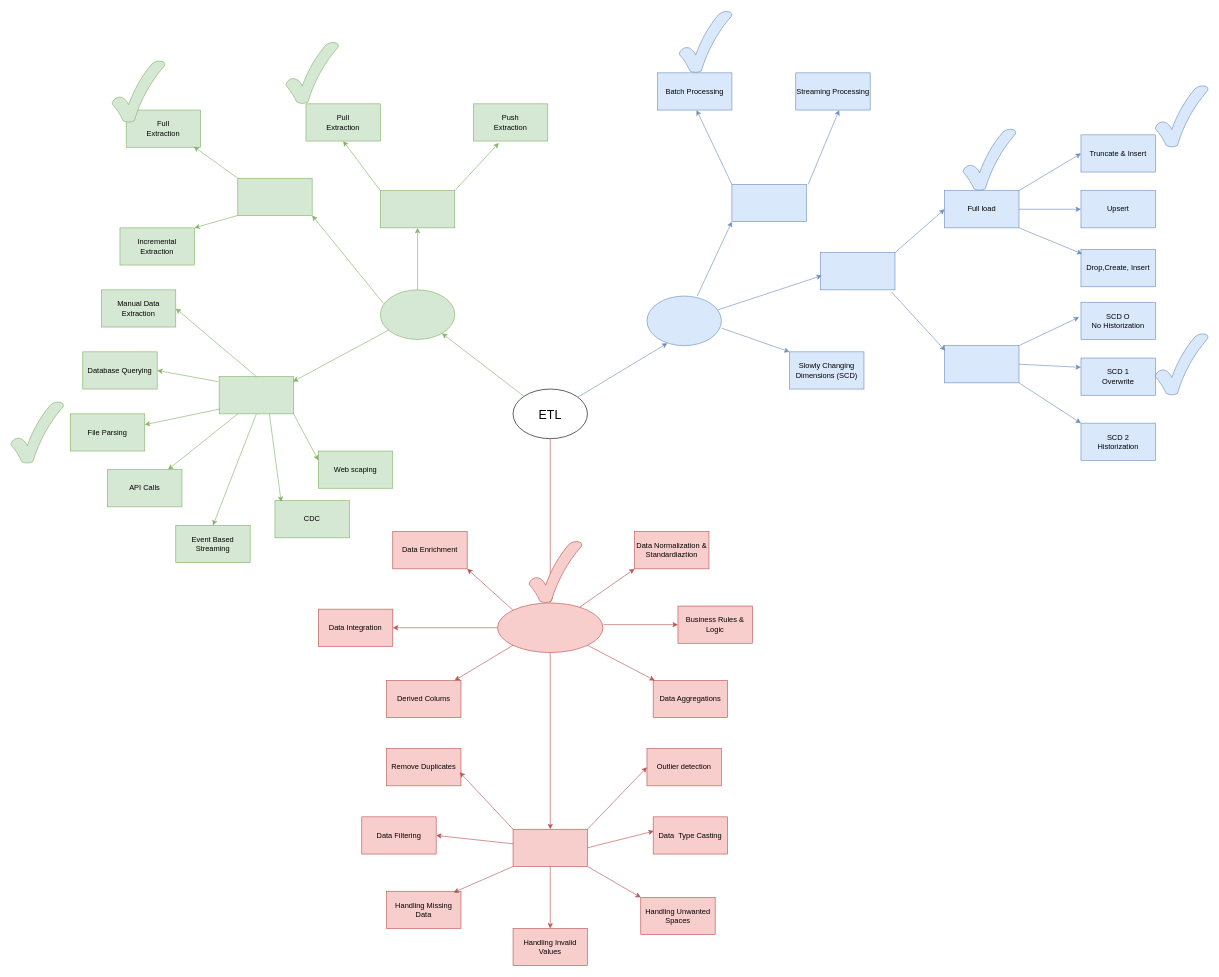
This 1219x977 diagram has some shape labels left out. The centre of each missing label's shape, as x and y in pixels:
"Data Cleansing" belongs at point 549,847.
"Extraction" belongs at point 417,314.
"Extraction methods" belongs at point 417,209.
"Extraction Techniques" belongs at point 256,395.
"Extraction Types" belongs at point 274,196.
"Load" belongs at point 683,320.
"Load Methods" belongs at point 857,271.
"Processing Types" belongs at point 768,203.
"Slowly Changing Diemensions (SCD)" belongs at point 981,364.
"Transformation" belongs at point 550,627.
